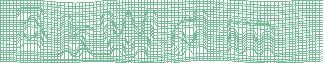3: (12, 4, 49, 54)
W: (98, 10, 157, 58)
d: (170, 10, 209, 57)
k: (59, 12, 95, 61)
m: (225, 18, 275, 58)
